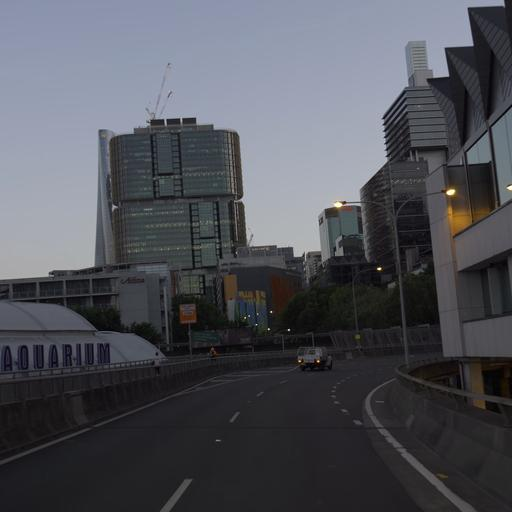Street light: (332, 186, 456, 366), (351, 264, 382, 331)
